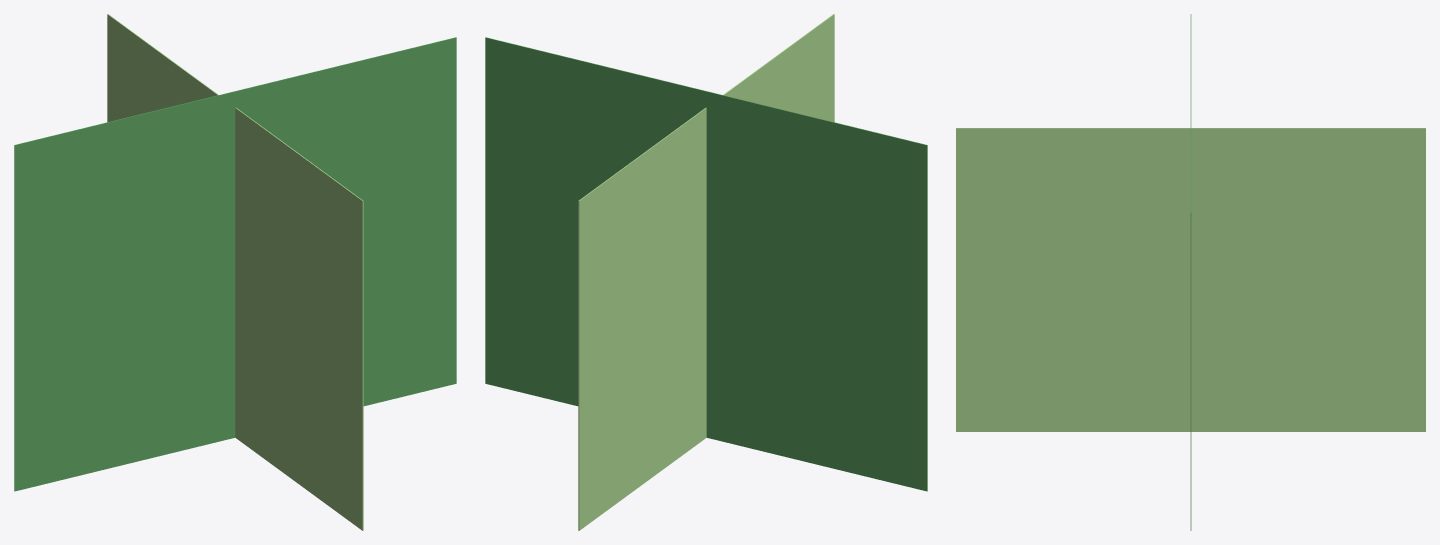
The model's file is Grass_tall.glb.
3 views of the same model, side by side, from view 1: azimuth 30°, elevation 25°; view 2: azimuth 150°, elevation 25°; view 3: azimuth 270°, elevation 25° (orthographic). The views are drawn at different scales.
Visible parts, largest first — view 1: FTF_Nature_Grass_CrossTall_1_5m_2x2m_Mesh; view 2: FTF_Nature_Grass_CrossTall_1_5m_2x2m_Mesh; view 3: FTF_Nature_Grass_CrossTall_1_5m_2x2m_Mesh.
Part boxes in pixels (box(x1,y1,x2,y2)): FTF_Nature_Grass_CrossTall_1_5m_2x2m_Mesh: box(14, 14, 456, 530); FTF_Nature_Grass_CrossTall_1_5m_2x2m_Mesh: box(485, 14, 927, 530); FTF_Nature_Grass_CrossTall_1_5m_2x2m_Mesh: box(956, 14, 1425, 530).
Bounding box in the file's own units: 2 × 1.5 × 2.
